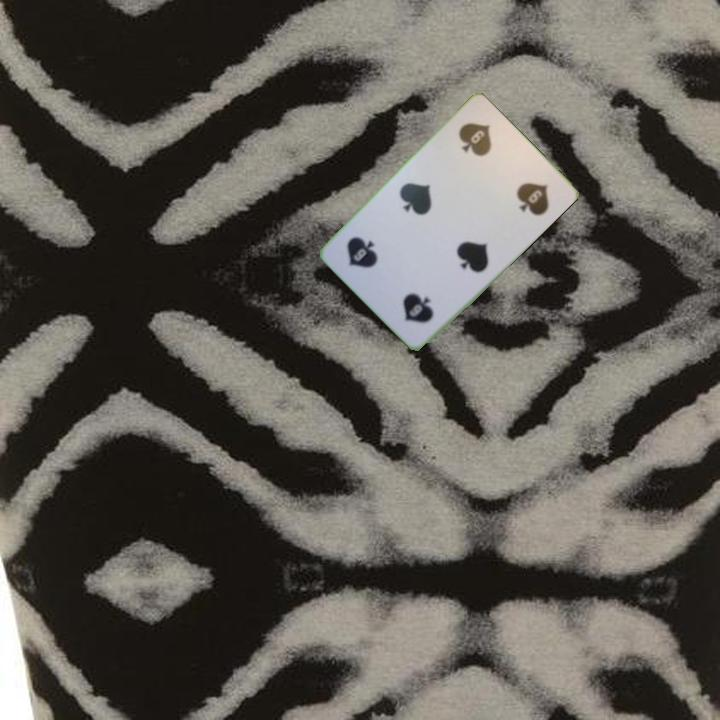s_6.png: (372, 255, 458, 341), (438, 104, 524, 190)
